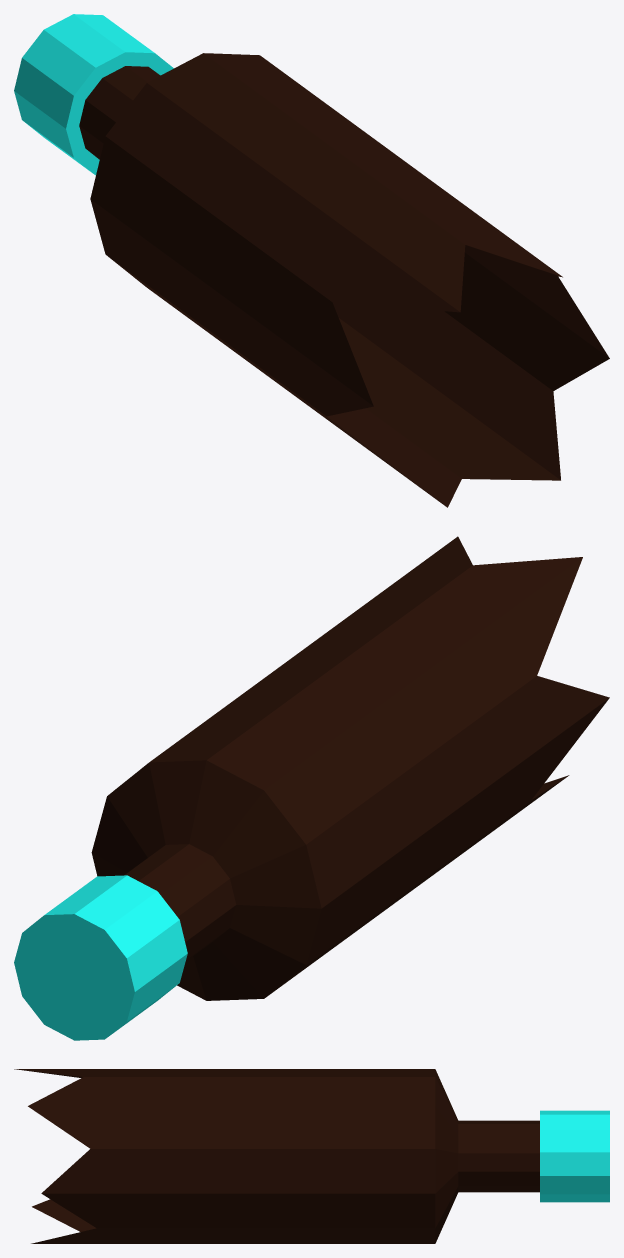
The model's file is GarrafaQuebrada.fbx.
The picture shows the model from 3 angles, top to bottom: view 1: azimuth 30°, elevation 25°; view 2: azimuth 150°, elevation 25°; view 3: azimuth 270°, elevation 25°; orthographic projection. The views are drawn at different scales.
Parts seen in each view (by area): view 1: GarrafaQuebrada; view 2: GarrafaQuebrada; view 3: GarrafaQuebrada.
Part boxes in pixels (x1,y1,x2,y2): GarrafaQuebrada: (14,14,609,507); GarrafaQuebrada: (14,536,609,1040); GarrafaQuebrada: (14,1069,609,1243).
Bounding box in the file's own units: 10.63 × 10.63 × 36.15.
